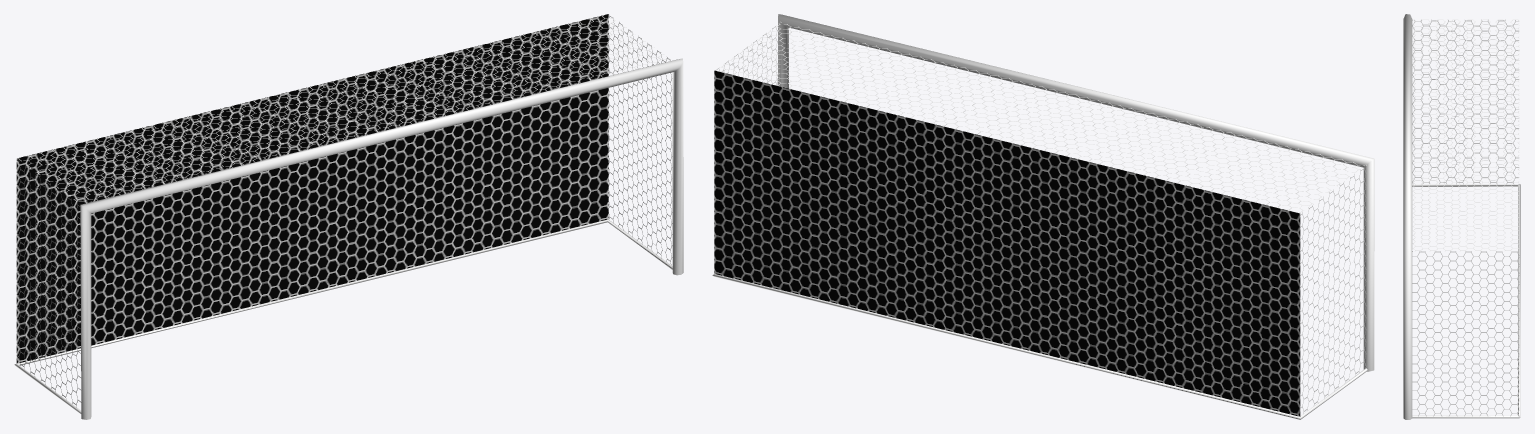
Rendered from goal.glb.
3 renders of one model, left to right at view 1: azimuth 30°, elevation 25°; view 2: azimuth 150°, elevation 25°; view 3: azimuth 270°, elevation 25°, orthographic. The views are drawn at different scales.
Parts seen in each view (by area): view 1: NetCube, soccerGoal; view 2: NetCube, soccerGoal; view 3: NetCube, soccerGoal.
Part boxes in pixels (x1,y1,x2,y2): NetCube: [16, 14, 672, 407]; soccerGoal: [14, 58, 683, 419]; NetCube: [714, 23, 1366, 416]; soccerGoal: [712, 14, 1374, 419]; NetCube: [1412, 19, 1519, 416]; soccerGoal: [1403, 14, 1520, 419].
Bounding box in the file's own units: 7.57 × 2.57 × 1.59.
Materials: 5 (4 with a texture image).
